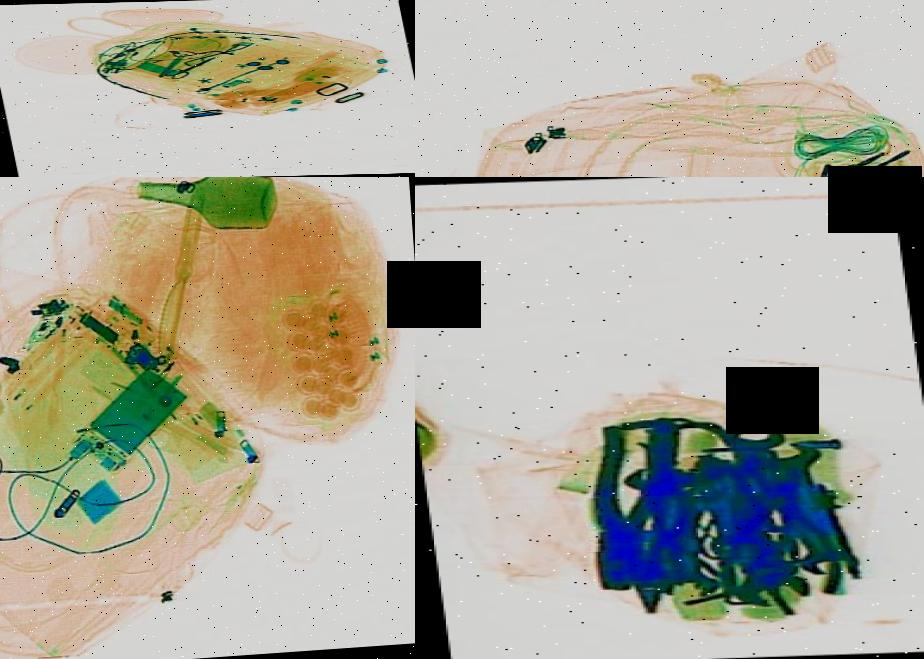Pliers: (568, 414, 704, 614), (744, 475, 847, 614)
Scissors: (153, 53, 225, 80)
Wrench: (692, 418, 799, 550)
